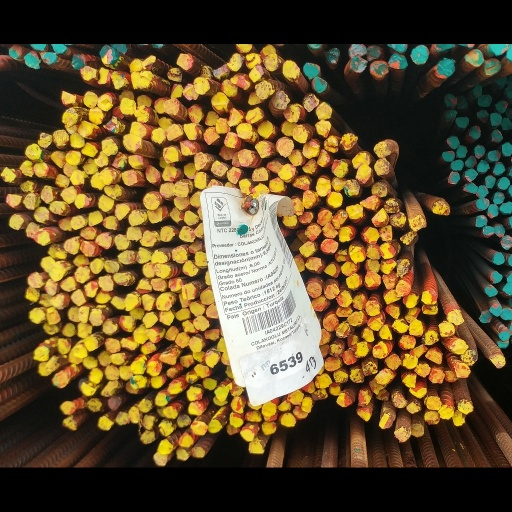dipstick: (104, 84, 128, 109), (122, 105, 144, 131), (347, 240, 370, 264), (435, 16, 456, 42), (370, 18, 391, 44), (313, 159, 334, 184), (370, 137, 393, 159), (350, 129, 373, 151), (347, 12, 370, 34), (462, 4, 485, 26), (73, 265, 95, 288), (372, 114, 392, 139), (314, 68, 334, 93), (275, 112, 295, 137), (99, 0, 119, 25), (143, 195, 165, 217), (57, 50, 78, 73), (77, 90, 98, 113), (339, 105, 359, 129), (410, 0, 429, 25), (110, 30, 129, 55), (387, 9, 408, 31), (244, 75, 266, 96), (231, 33, 252, 55), (126, 197, 147, 219), (359, 181, 382, 201), (353, 145, 373, 168), (482, 15, 502, 38), (282, 71, 302, 94), (139, 223, 159, 246), (301, 59, 320, 83), (96, 179, 115, 203), (100, 406, 125, 424), (262, 429, 279, 455), (324, 177, 345, 198), (377, 239, 398, 260), (297, 237, 318, 258), (255, 44, 276, 65), (119, 327, 140, 348), (201, 99, 221, 121), (219, 42, 239, 64), (172, 163, 192, 185), (128, 92, 148, 114), (62, 231, 82, 253), (409, 204, 428, 227), (342, 162, 361, 185), (425, 363, 444, 386), (369, 403, 388, 426), (322, 325, 341, 348), (277, 143, 296, 166), (52, 100, 71, 123), (172, 242, 191, 265), (156, 298, 175, 321), (377, 443, 395, 467), (367, 325, 385, 349), (292, 96, 310, 120), (282, 19, 300, 43), (60, 74, 78, 98), (1, 146, 19, 170), (123, 298, 141, 322), (90, 316, 108, 340), (371, 357, 388, 382), (324, 2, 341, 27), (387, 200, 407, 221), (374, 392, 395, 412), (359, 380, 379, 401), (323, 263, 343, 284), (304, 215, 324, 236), (310, 38, 330, 59), (212, 21, 232, 42), (64, 127, 85, 147), (120, 150, 140, 171), (128, 398, 149, 418), (77, 405, 98, 425), (389, 420, 408, 442), (143, 178, 162, 200), (70, 9, 89, 31), (153, 265, 175, 284), (113, 274, 135, 293), (47, 264, 66, 286), (133, 337, 149, 363), (82, 282, 98, 308), (269, 157, 287, 180), (248, 24, 266, 47), (144, 146, 162, 169), (101, 111, 119, 134), (97, 276, 115, 299), (371, 197, 388, 221), (273, 56, 290, 80), (188, 71, 205, 95), (420, 296, 440, 316), (388, 330, 408, 350), (357, 413, 373, 438), (313, 92, 333, 112), (292, 158, 312, 178), (151, 246, 171, 266), (93, 294, 113, 314), (449, 356, 470, 375), (392, 460, 411, 481), (346, 321, 367, 340), (344, 278, 365, 297), (301, 116, 320, 137), (210, 141, 229, 162), (35, 223, 54, 244), (112, 227, 131, 248), (31, 362, 50, 383), (51, 395, 70, 416), (181, 260, 200, 281), (133, 282, 154, 301), (117, 247, 138, 266), (432, 185, 450, 207), (438, 333, 456, 355), (350, 358, 368, 380), (238, 126, 256, 148), (175, 9, 193, 31), (118, 64, 136, 86), (49, 128, 67, 150), (100, 147, 118, 169), (28, 318, 46, 340), (335, 296, 352, 319), (257, 91, 274, 114), (263, 10, 280, 33), (226, 10, 243, 33), (25, 119, 42, 142), (101, 330, 118, 353), (395, 282, 411, 306), (306, 284, 322, 308), (331, 199, 347, 223), (89, 74, 105, 98), (330, 138, 349, 158), (487, 373, 507, 392), (365, 1, 384, 21), (303, 21, 322, 41), (95, 447, 114, 467), (190, 453, 209, 473), (166, 385, 185, 405), (119, 353, 138, 373), (144, 342, 163, 362), (460, 368, 478, 389), (348, 389, 366, 410), (322, 111, 340, 132), (287, 125, 305, 146), (210, 58, 228, 79), (149, 100, 167, 121), (80, 116, 98, 137), (82, 137, 100, 158), (70, 151, 88, 172), (7, 203, 25, 224), (80, 235, 98, 256), (214, 411, 232, 432), (83, 351, 101, 372), (55, 354, 73, 375), (66, 366, 84, 387), (352, 299, 367, 324), (193, 129, 208, 154), (457, 427, 474, 449), (280, 90, 297, 112), (164, 65, 181, 87), (76, 335, 93, 357), (180, 220, 196, 243), (137, 244, 153, 267), (89, 256, 105, 279), (453, 385, 472, 404), (421, 346, 440, 365), (324, 377, 343, 396), (304, 257, 323, 276), (79, 25, 98, 44), (104, 424, 123, 443), (399, 225, 419, 243), (379, 259, 397, 279), (446, 320, 464, 340), (382, 296, 402, 314), (398, 349, 416, 369), (410, 359, 428, 379), (364, 309, 382, 329), (325, 286, 340, 310), (315, 397, 333, 417), (364, 275, 382, 295), (321, 235, 341, 253), (97, 56, 112, 80), (134, 59, 152, 79), (128, 131, 146, 151), (61, 171, 76, 195), (124, 220, 142, 240), (140, 446, 158, 466), (157, 452, 175, 472), (186, 411, 204, 431), (193, 385, 211, 405), (204, 368, 219, 392), (86, 389, 104, 409), (60, 279, 78, 299), (362, 220, 379, 241), (402, 300, 419, 321), (408, 412, 429, 429), (332, 391, 349, 412), (340, 368, 357, 389), (254, 116, 271, 137), (193, 39, 210, 60), (164, 122, 181, 143), (183, 197, 200, 218), (102, 204, 119, 225), (279, 443, 296, 464), (95, 368, 112, 389), (183, 142, 199, 164), (111, 129, 127, 151), (114, 191, 130, 213), (24, 213, 40, 235), (70, 204, 86, 226), (46, 317, 62, 339), (228, 77, 243, 100), (154, 60, 169, 83), (23, 178, 38, 201), (370, 166, 388, 185), (316, 200, 334, 219), (265, 139, 283, 158), (251, 148, 269, 167), (245, 10, 264, 28), (180, 115, 198, 134), (158, 220, 177, 238), (187, 353, 205, 372), (146, 382, 164, 401), (118, 387, 136, 406), (103, 258, 121, 277), (378, 218, 395, 238), (438, 435, 455, 455), (336, 420, 353, 440), (385, 372, 402, 392), (236, 94, 253, 114), (219, 120, 236, 140), (168, 45, 185, 65), (22, 9, 39, 29), (94, 128, 111, 148), (86, 201, 103, 221), (248, 475, 265, 495), (230, 425, 247, 445), (154, 418, 171, 438), (104, 355, 121, 375), (335, 335, 351, 356), (347, 0, 368, 16), (184, 95, 200, 116), (183, 47, 199, 68), (166, 95, 182, 116), (159, 166, 175, 187), (83, 55, 99, 76), (133, 73, 149, 94), (37, 104, 53, 125), (288, 415, 304, 436), (157, 437, 181, 451), (131, 379, 147, 400), (181, 287, 197, 308), (193, 249, 209, 270), (302, 176, 317, 198), (142, 12, 157, 34), (40, 169, 55, 191), (424, 425, 442, 443), (342, 261, 360, 279), (334, 247, 352, 265), (87, 426, 105, 444), (383, 187, 402, 204), (344, 193, 363, 210), (384, 312, 401, 331), (313, 304, 330, 323), (336, 220, 353, 239), (301, 139, 318, 158), (104, 169, 123, 186), (60, 449, 79, 466), (178, 467, 195, 486), (166, 405, 183, 424), (169, 282, 186, 301), (151, 281, 168, 300), (50, 300, 67, 319), (395, 258, 409, 281), (317, 126, 331, 149), (97, 25, 111, 48), (140, 299, 154, 322), (381, 276, 397, 296), (402, 372, 418, 392), (429, 392, 445, 412), (162, 146, 178, 166), (96, 226, 112, 246), (39, 255, 55, 275), (26, 274, 42, 294), (138, 426, 154, 446), (228, 406, 244, 426), (82, 376, 102, 392), (289, 185, 304, 206), (70, 105, 85, 126), (48, 188, 69, 203), (208, 450, 223, 471), (175, 347, 190, 368), (227, 148, 241, 170), (138, 33, 152, 55), (20, 140, 34, 162), (169, 195, 183, 217), (414, 385, 432, 402), (423, 443, 440, 461), (409, 458, 426, 476), (328, 358, 345, 376), (158, 134, 176, 151), (79, 219, 97, 236), (187, 431, 204, 449), (181, 333, 199, 350), (193, 327, 210, 345), (355, 437, 371, 456), (54, 155, 70, 174), (157, 476, 173, 495), (153, 492, 169, 511), (239, 460, 255, 479), (261, 453, 277, 472), (159, 370, 178, 386), (142, 323, 158, 342), (72, 254, 91, 270), (409, 333, 424, 353), (452, 443, 467, 463), (335, 316, 355, 331), (366, 242, 381, 262), (74, 180, 89, 200), (245, 443, 265, 458), (199, 294, 214, 314), (129, 31, 142, 54), (238, 162, 252, 183), (42, 335, 63, 349), (67, 315, 81, 336), (298, 202, 315, 219), (405, 429, 421, 447), (321, 217, 339, 233), (216, 89, 232, 107), (174, 182, 190, 200), (127, 15, 143, 33), (117, 55, 135, 71), (20, 163, 38, 179), (46, 241, 62, 259), (140, 358, 158, 374), (203, 343, 221, 359), (159, 321, 175, 339), (190, 310, 206, 328), (190, 175, 203, 197), (6, 178, 21, 197), (33, 195, 48, 214), (23, 292, 38, 311), (454, 59, 468, 79), (193, 154, 207, 174), (164, 340, 178, 360), (205, 313, 219, 333), (44, 282, 58, 302), (73, 359, 87, 379), (78, 315, 90, 338), (301, 425, 314, 446), (330, 160, 347, 176), (403, 398, 419, 415), (365, 258, 381, 275), (445, 109, 461, 126), (474, 184, 490, 201), (477, 59, 493, 76), (248, 57, 264, 74), (41, 8, 57, 25), (60, 432, 76, 449), (140, 466, 156, 483), (200, 401, 216, 418), (110, 372, 127, 388), (176, 319, 192, 336), (38, 301, 54, 318), (463, 149, 478, 167), (57, 207, 72, 225), (110, 302, 125, 320), (72, 296, 87, 314), (489, 272, 503, 291), (361, 341, 375, 360), (380, 339, 394, 358), (496, 157, 510, 176), (250, 168, 269, 182), (260, 0, 279, 14), (230, 445, 244, 464), (188, 234, 202, 253), (495, 65, 508, 85), (224, 105, 237, 125), (90, 154, 103, 174), (483, 289, 499, 305), (282, 206, 298, 222), (63, 144, 79, 160), (176, 447, 192, 463), (454, 85, 469, 102), (167, 28, 182, 45), (63, 93, 78, 110), (293, 435, 308, 452), (105, 388, 120, 405), (406, 318, 420, 336), (483, 157, 497, 175), (443, 58, 457, 76), (468, 46, 482, 64), (205, 80, 219, 98), (234, 0, 255, 12), (33, 142, 47, 160), (178, 298, 190, 319), (211, 424, 230, 437), (151, 398, 164, 417), (143, 263, 156, 282), (374, 417, 390, 432), (328, 409, 343, 425), (473, 206, 489, 221), (47, 375, 59, 395), (128, 435, 138, 459), (225, 458, 241, 473), (301, 406, 317, 421), (180, 375, 195, 391), (444, 392, 458, 409), (473, 120, 487, 137), (468, 98, 482, 115), (312, 414, 329, 428), (63, 335, 77, 352), (489, 311, 502, 329), (176, 487, 189, 505), (494, 142, 506, 161), (494, 216, 506, 235), (185, 393, 197, 412), (463, 165, 477, 181), (465, 134, 479, 150), (159, 85, 173, 101), (477, 139, 490, 156), (489, 82, 502, 99), (493, 175, 504, 195), (500, 229, 511, 249), (448, 152, 460, 170), (487, 191, 499, 209), (36, 382, 48, 400), (492, 252, 506, 267), (114, 443, 128, 458), (192, 484, 206, 499), (278, 429, 292, 444), (479, 321, 492, 337), (346, 350, 359, 366), (441, 129, 457, 142), (500, 189, 512, 206), (51, 0, 68, 12), (501, 117, 512, 135), (477, 170, 489, 186), (457, 121, 468, 138), (451, 139, 464, 153), (482, 219, 495, 233), (491, 102, 503, 117), (502, 317, 512, 334), (443, 79, 458, 90), (501, 87, 511, 103), (476, 80, 490, 91)
